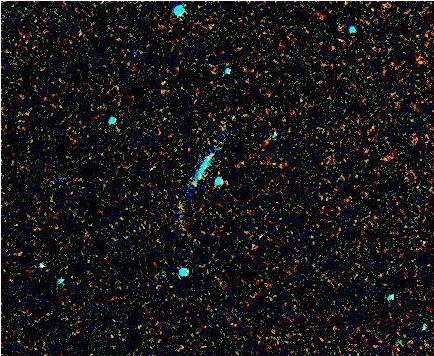star: (162, 192, 192, 222)
